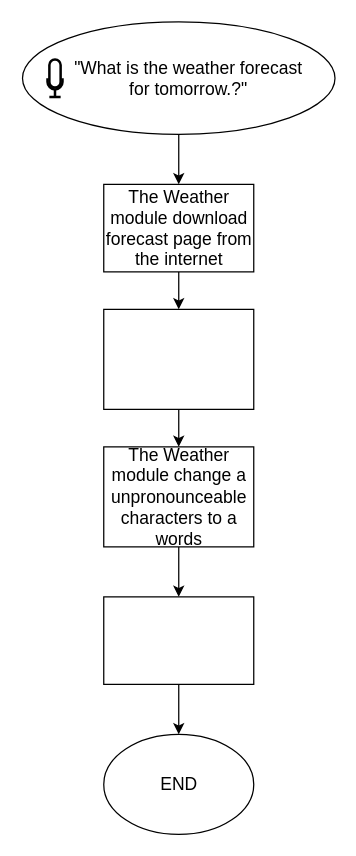
This 356x856 diagram has some shape labels left out. The centre of each missing label's shape, as x and y in pixels:
The Weather module answer "It will rain tomorrow.": point 178,640
The Weather module find forecast for tomorrow on the page: point 178,358
